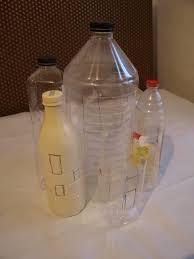Plastic bottle: (80, 24, 136, 201), (138, 77, 180, 199)
